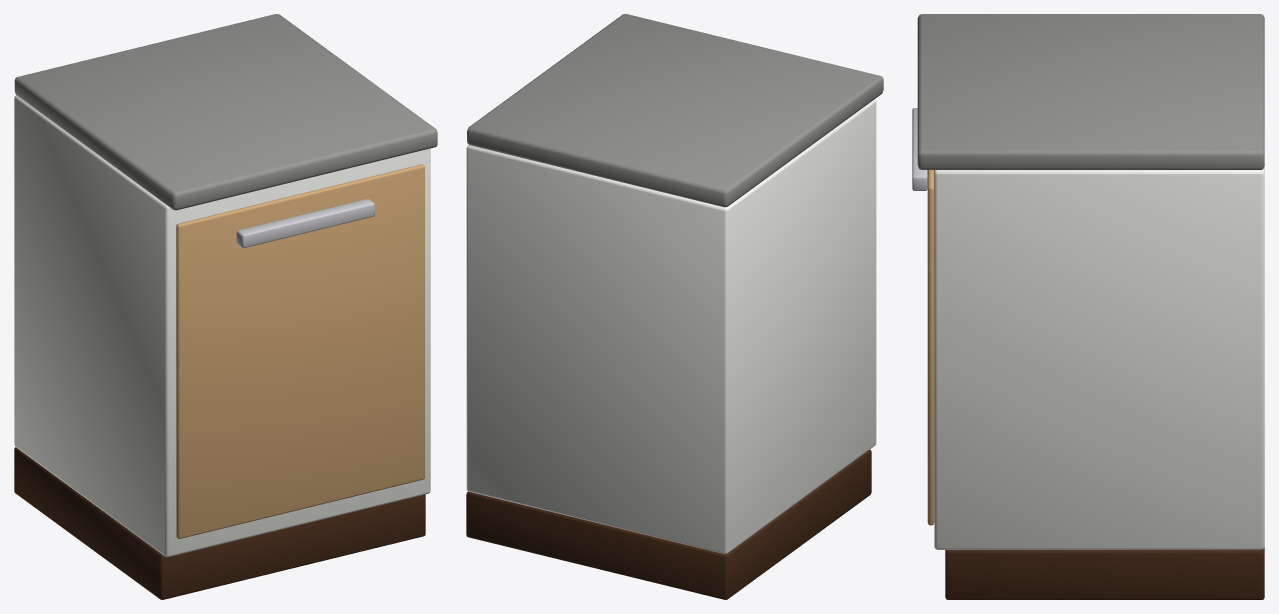
File: Kitchen_Base_60.glb
The picture shows the model from 3 angles, left to right: view 1: azimuth 30°, elevation 25°; view 2: azimuth 150°, elevation 25°; view 3: azimuth 270°, elevation 25°; orthographic projection. The views are drawn at different scales.
Parts seen in each view (by area): view 1: Kitchen_Base_60; view 2: Kitchen_Base_60; view 3: Kitchen_Base_60.
Part boxes in pixels (x1,y1,x2,y2): Kitchen_Base_60: (14, 14, 437, 599); Kitchen_Base_60: (466, 14, 883, 599); Kitchen_Base_60: (912, 14, 1264, 599).
Size of the model in its own units: 0.6 by 0.9 by 0.64.
